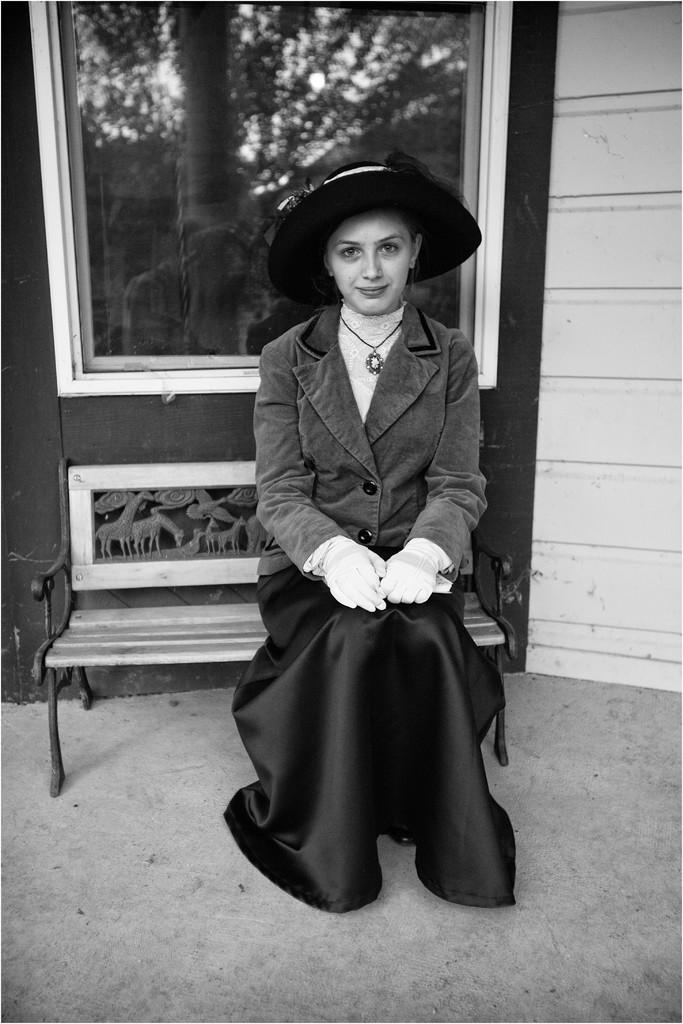Hat: (268, 146, 483, 308)
